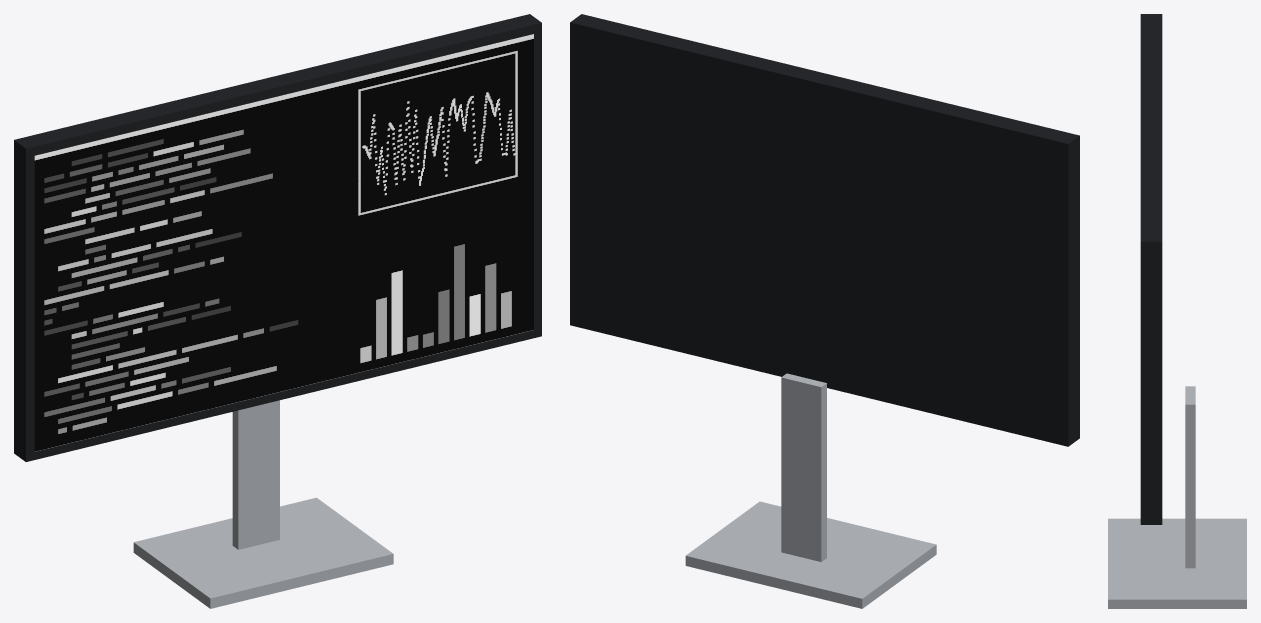
The model's file is Tech_Monitor.gltf.
The picture shows the model from 3 angles, left to right: view 1: azimuth 30°, elevation 25°; view 2: azimuth 150°, elevation 25°; view 3: azimuth 270°, elevation 25°; orthographic projection. The views are drawn at different scales.
Visible parts, largest first — view 1: Tech_Monitor; view 2: Tech_Monitor; view 3: Tech_Monitor.
Boxes of the visible parts, x1=… form: Tech_Monitor: x1=14, y1=14, x2=541, y2=608; Tech_Monitor: x1=570, y1=14, x2=1079, y2=608; Tech_Monitor: x1=1108, y1=14, x2=1246, y2=608.
Bounding box in the file's own units: 0.62 × 0.56 × 0.16.
3 materials, 1 textured.
